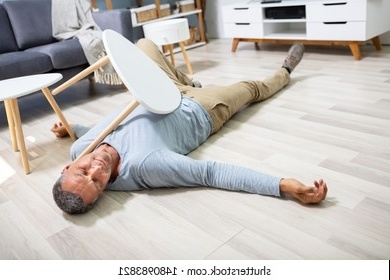fall: (51, 37, 331, 219)
